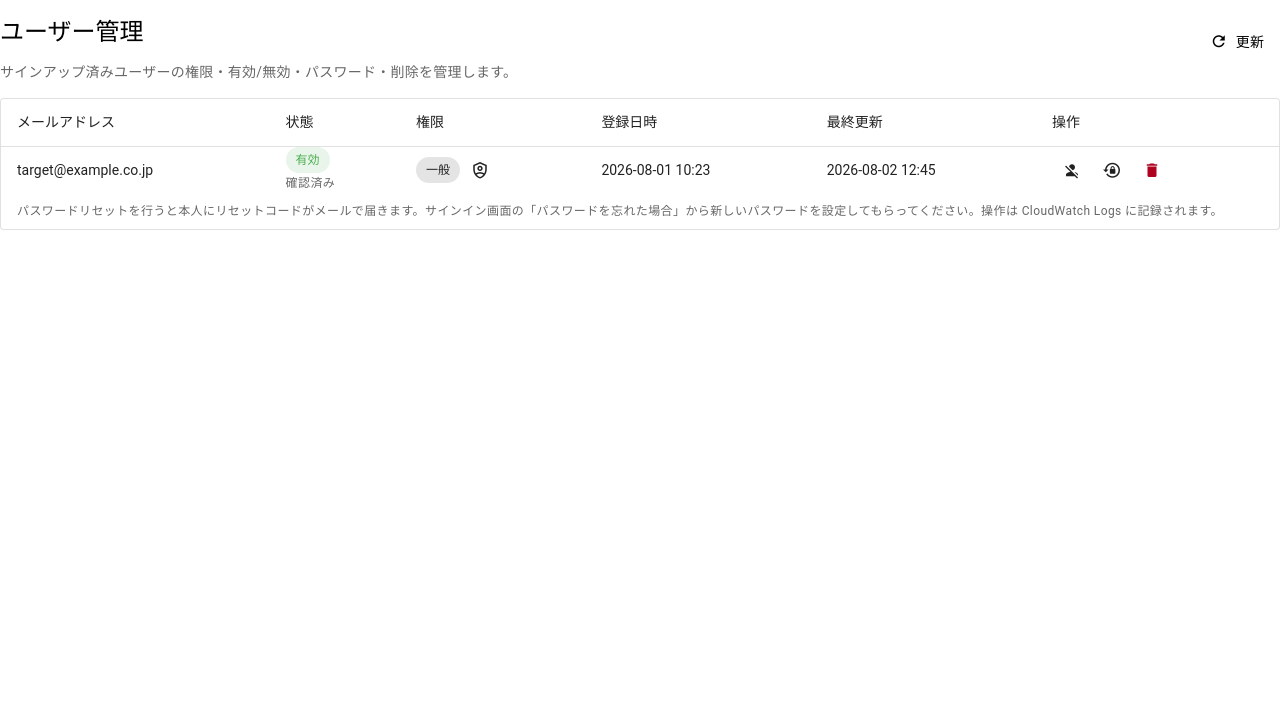
Test: UsersView › enabled の確認ダイアログにトークン寿命の注意を出す
What coordinates should you click on to do the following:
click the 3rd button
I would click on:
 (1072, 170)
Its box is [1052,150,1092,190].
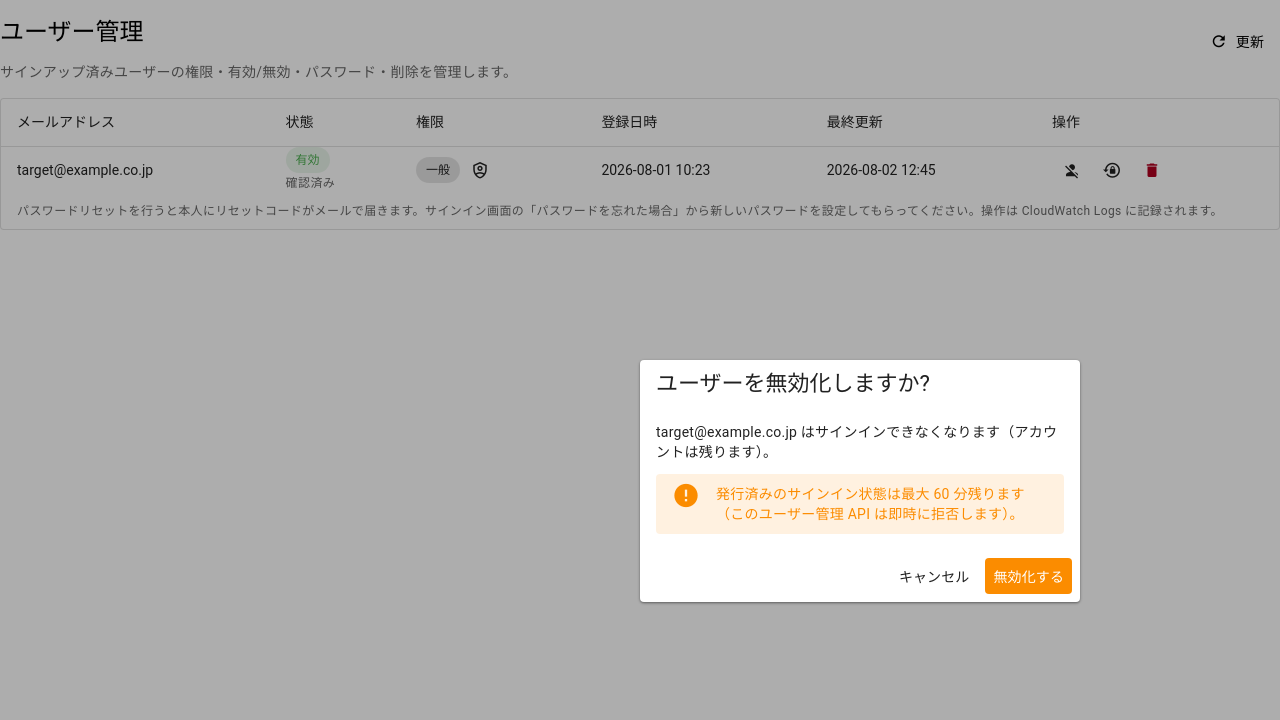
expect the text "最大 60 分残ります" is shown: met, box [716,486,1025,522]
